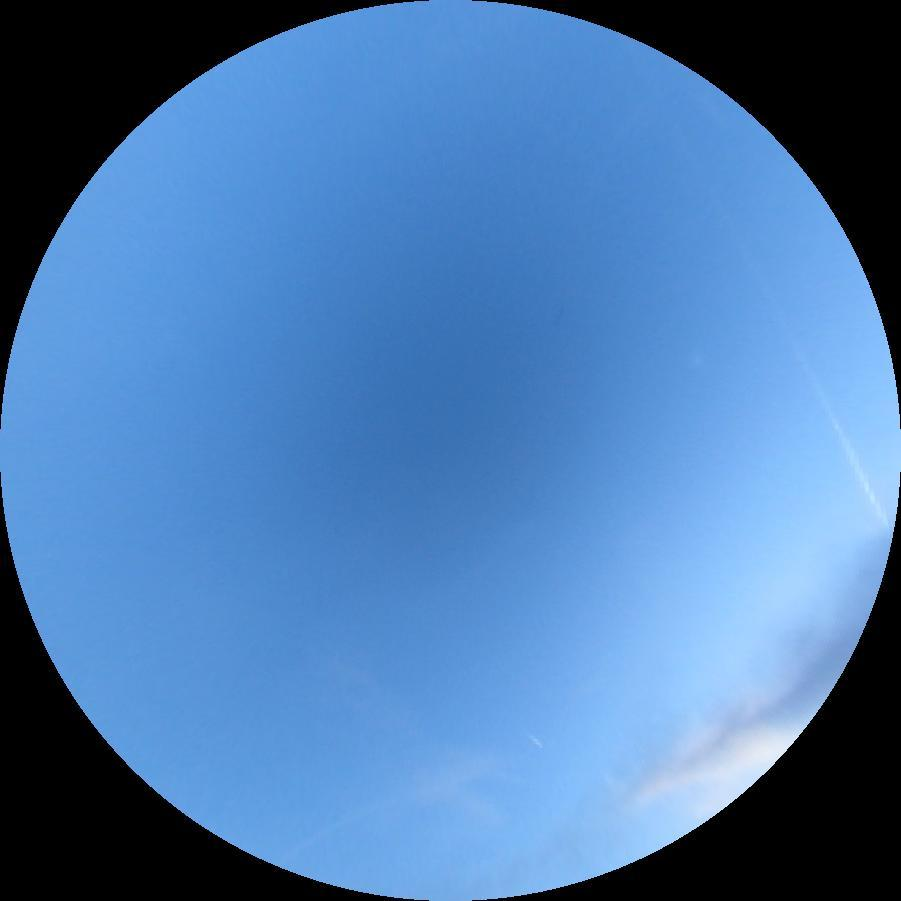contrail old: (730, 229, 895, 530)
unknow: (528, 734, 544, 750)
